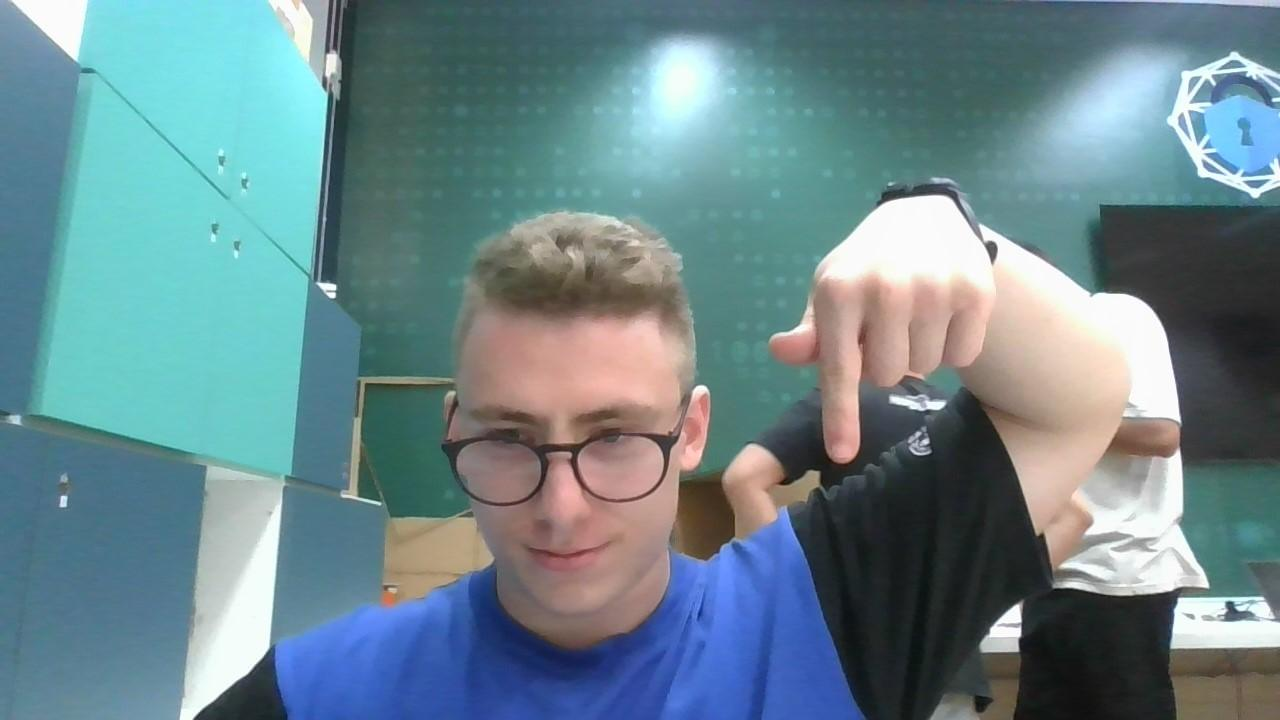Q: (764, 206, 994, 470)
